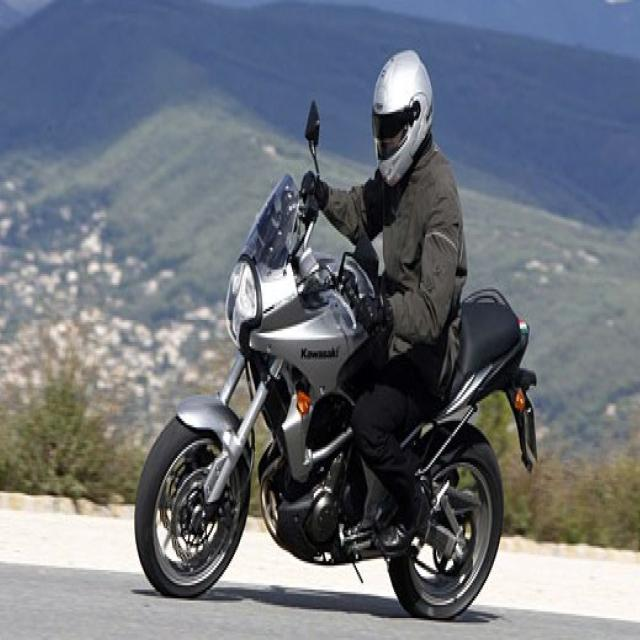helmet: (369, 44, 437, 194)
